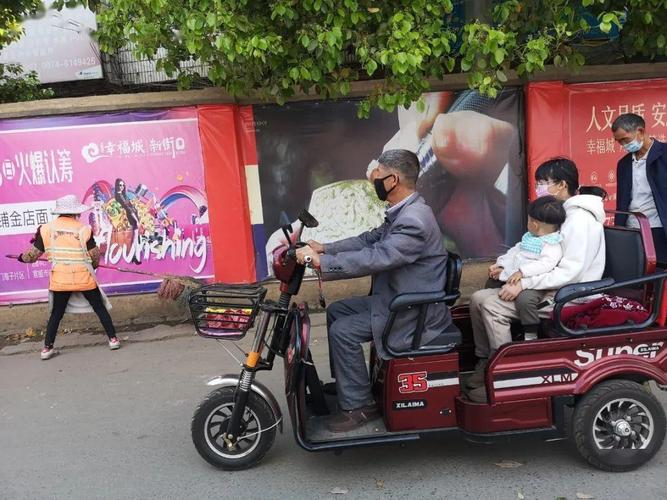driver: (290, 149, 441, 426)
overloading: (189, 160, 667, 476)
passenger: (500, 150, 606, 325), (494, 198, 559, 290)
